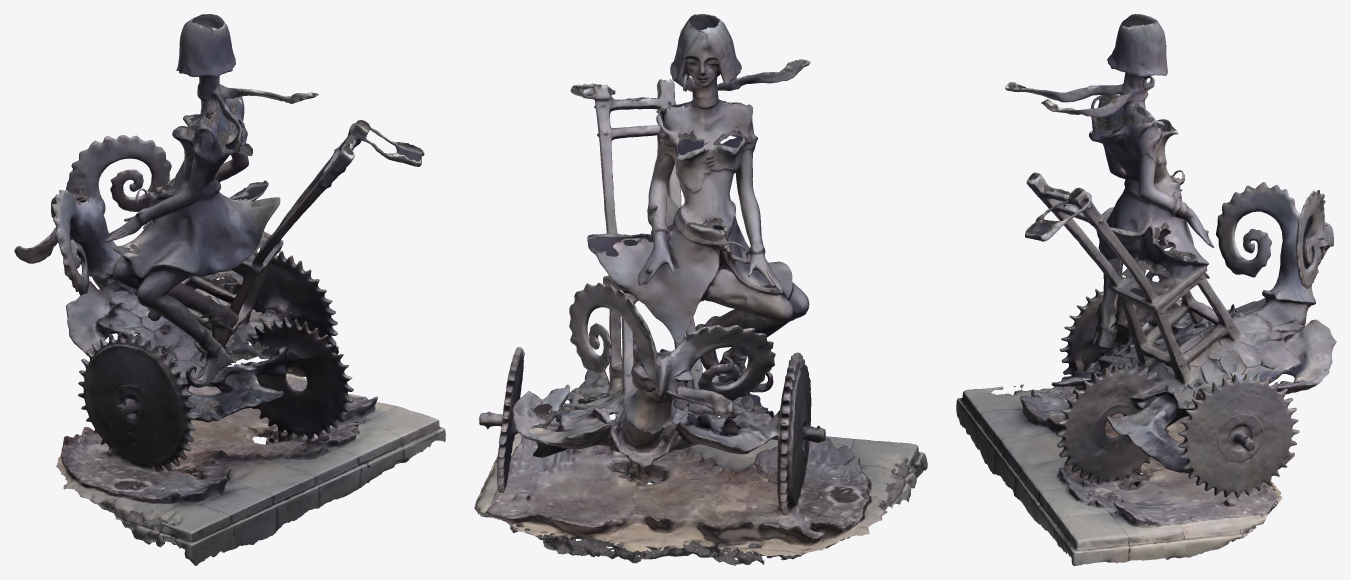
File: mesh_medpoly.obj
3 renders of one model, left to right at view 1: azimuth 30°, elevation 25°; view 2: azimuth 150°, elevation 25°; view 3: azimuth 270°, elevation 25°, orthographic. The views are drawn at different scales.
Bounding box in the file's own units: 2.36 × 2.99 × 2.22.
41 materials, 41 textured.
